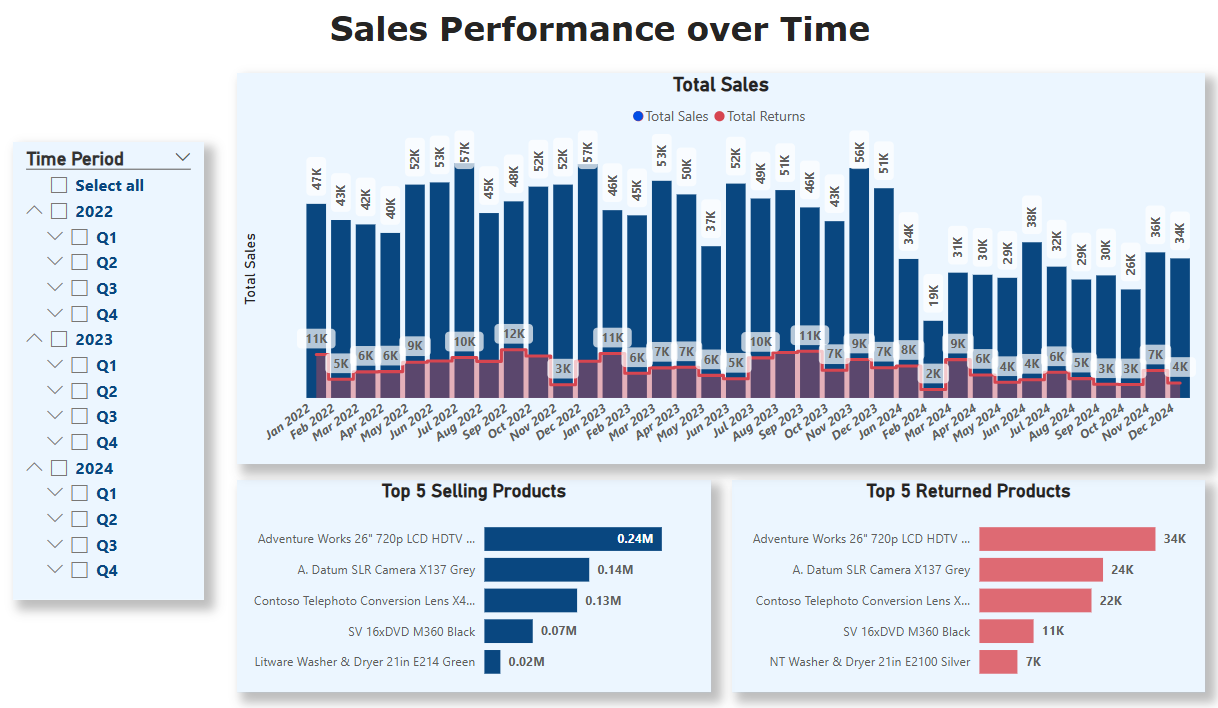

This screenshot's page, from the dashboard's own definition file:
{"tool":"powerbi","page":{"name":"Sales Performance - Time","canvas":[1280,720],"ordinal":0},"visuals":[{"type":"barChart","title":"Top 5 Selling Products","fields":{"Category":["products_table.ProductName"],"Y":["sales_table.Total Sales"]},"box":[286.4,479.3,461.7,206.5],"z":0},{"type":"textbox","box":[0,14.6,1280,52.6],"z":1000},{"type":"lineStackedColumnComboChart","title":"Total Sales","fields":{"Y":["sales_table.Total Sales"],"Y2":["returns_table.Total Returns"],"Category":["date_table.Month Year"]},"box":[286.4,82.8,943,380.9],"z":2000},{"type":"slicer","fields":{"Values":["date_table.Year","date_table.Quarter","date_table.Month Year"]},"box":[68.2,150,186.1,446.1],"z":3000},{"type":"barChart","title":"Top 5 Returned Products","fields":{"Category":["products_table.ProductName"],"Y":["returns_table.Total Returns"]},"box":[768.6,479.3,460.8,206.5],"z":4000}]}

Visuals, with their boxes on the page's 1280x720 design canvas (x1, y1, x2, y2). These are canvas units, not pixel positions in the 1218x708 screenshot, which may show the page scaled, cropped or inside an application window:
"Top 5 Selling Products" barChart: left=286, top=479, right=748, bottom=686
textbox: left=0, top=15, right=1280, bottom=67
"Total Sales" lineStackedColumnComboChart: left=286, top=83, right=1229, bottom=464
slicer - date_table.Year x date_table.Quarter: left=68, top=150, right=254, bottom=596
"Top 5 Returned Products" barChart: left=769, top=479, right=1229, bottom=686
